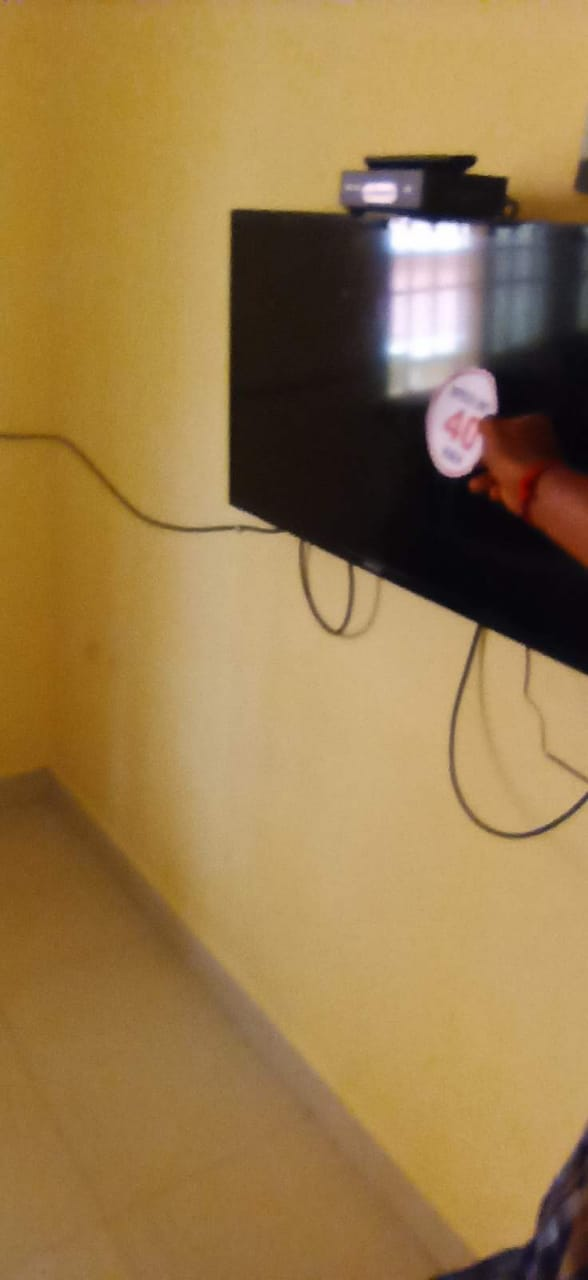SPEED LIMIT (40 KM/H): (416, 358, 506, 504)
